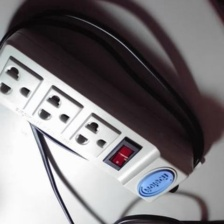three_eye_plug: (0, 22, 199, 205)
